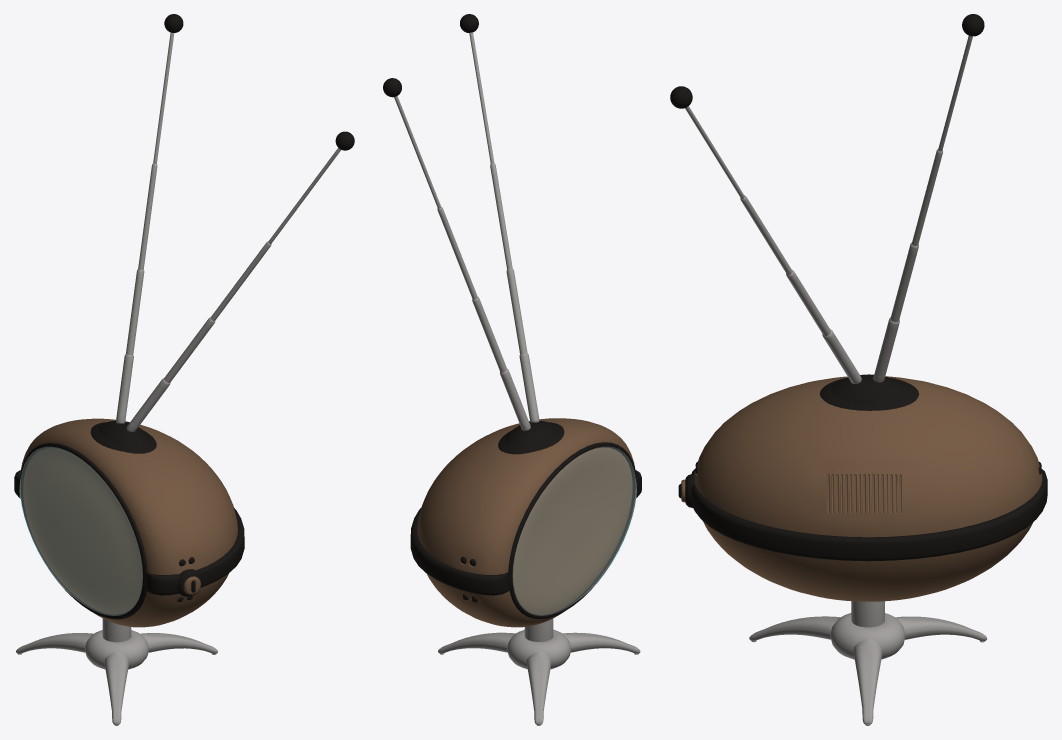
3 renders of one model, left to right at view 1: azimuth 30°, elevation 25°; view 2: azimuth 150°, elevation 25°; view 3: azimuth 270°, elevation 25°, orthographic. The views are drawn at different scales.
Visible parts, largest first — view 1: Body, Screen, TvBase, Antena, Antena_1; view 2: Body, Screen, TvBase, Antena_1, Antena; view 3: Body, TvBase, Antena, Antena_1.
Boxes of the visible parts, <box> form: Body: <box>14,418,244,627</box>; Screen: <box>19,447,142,615</box>; TvBase: <box>16,618,217,725</box>; Antena: <box>116,14,183,423</box>; Antena_1: <box>126,131,354,431</box>; Body: <box>410,418,641,627</box>; Screen: <box>513,447,636,615</box>; TvBase: <box>438,618,640,725</box>; Antena_1: <box>460,14,539,422</box>; Antena: <box>383,78,530,430</box>; Body: <box>678,374,1047,601</box>; TvBase: <box>749,601,986,725</box>; Antena: <box>873,14,984,382</box>; Antena_1: <box>670,86,861,383</box>.
Bounding box in the file's own units: 3.1 × 8.17 × 3.92.
